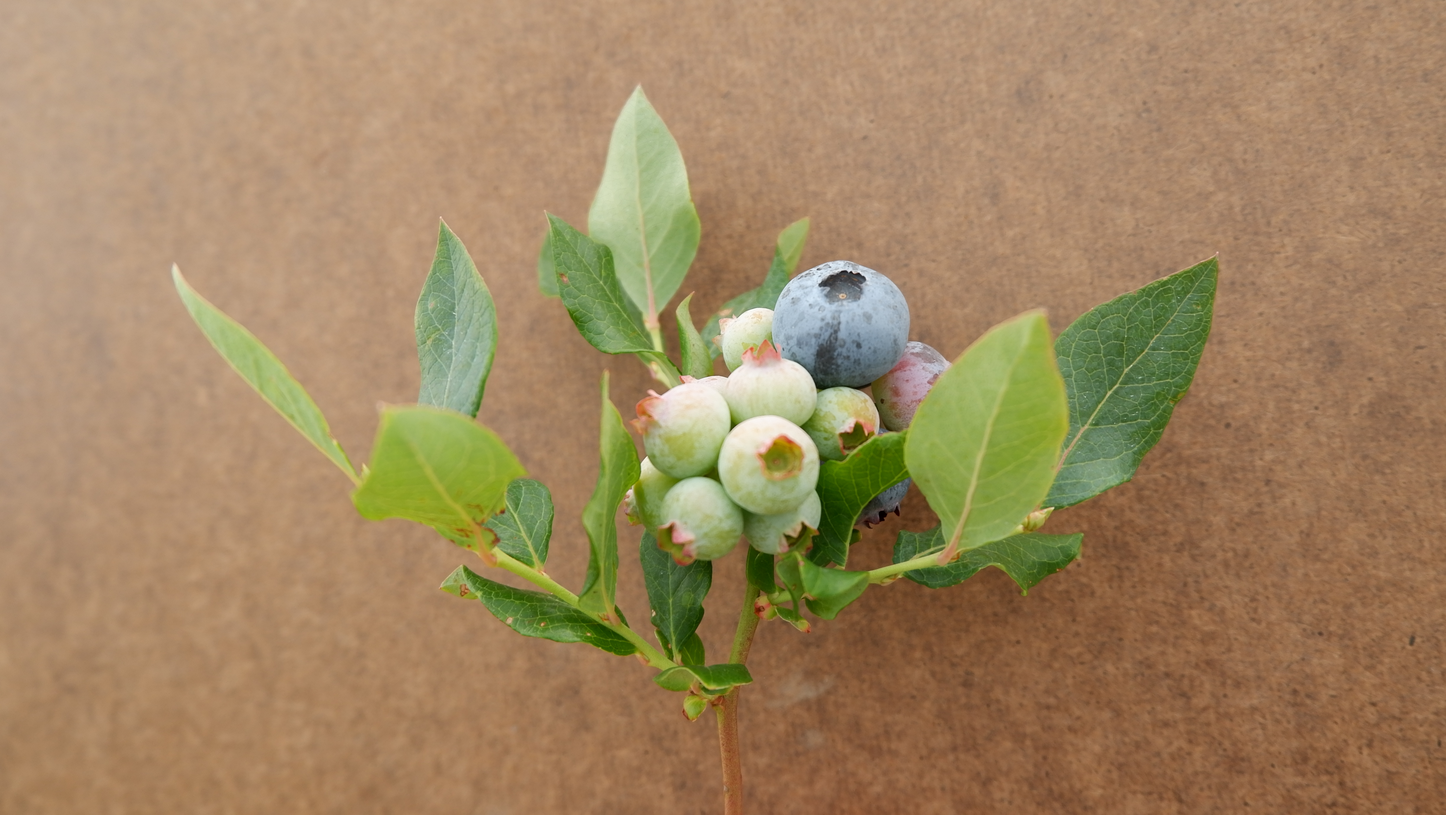Immature: (717, 415, 820, 514), (631, 382, 732, 479), (722, 341, 818, 428), (656, 477, 744, 565), (872, 342, 953, 433), (800, 387, 880, 461), (624, 455, 686, 542), (742, 490, 822, 556), (713, 306, 777, 373), (679, 376, 729, 395)
Mature: (772, 258, 910, 389), (854, 478, 911, 529)
